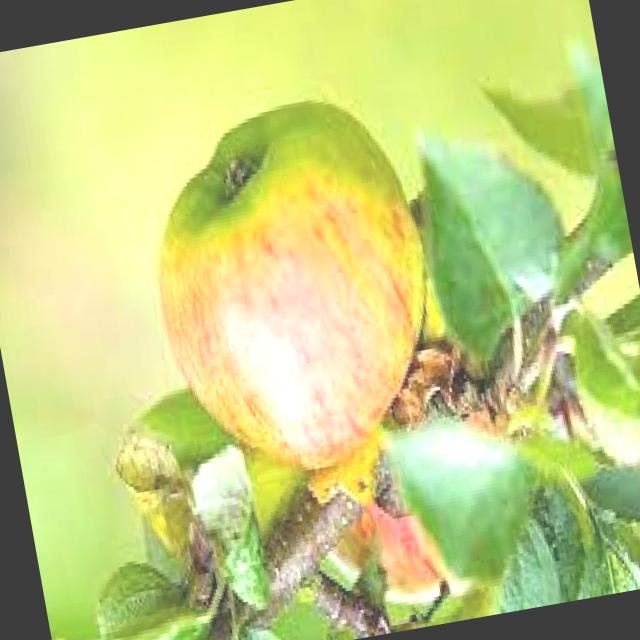Apple: (129, 85, 459, 493), (318, 458, 491, 620)
